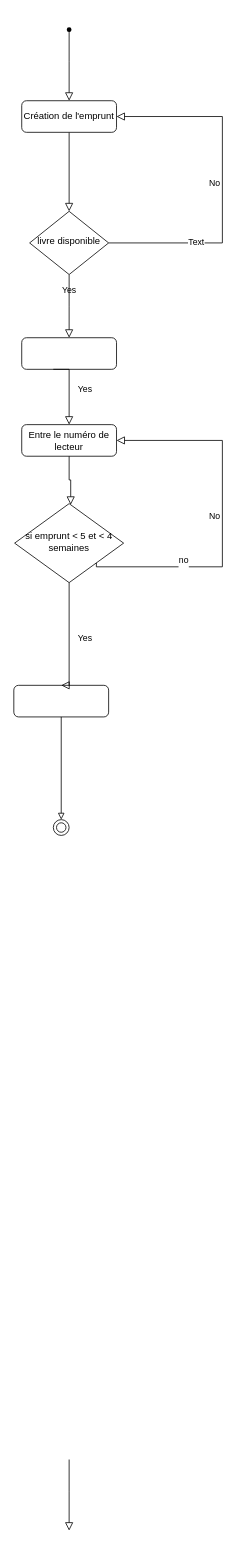
Image size: 244x1552. Some labels were removed from this diagram. Here are the shapes that lost their labels. From the top down, the centre of each, then its label:
At pixel 69 353: "Valide le document".
At pixel 61 701: "Valide l'usager et valide l'emprunt".
